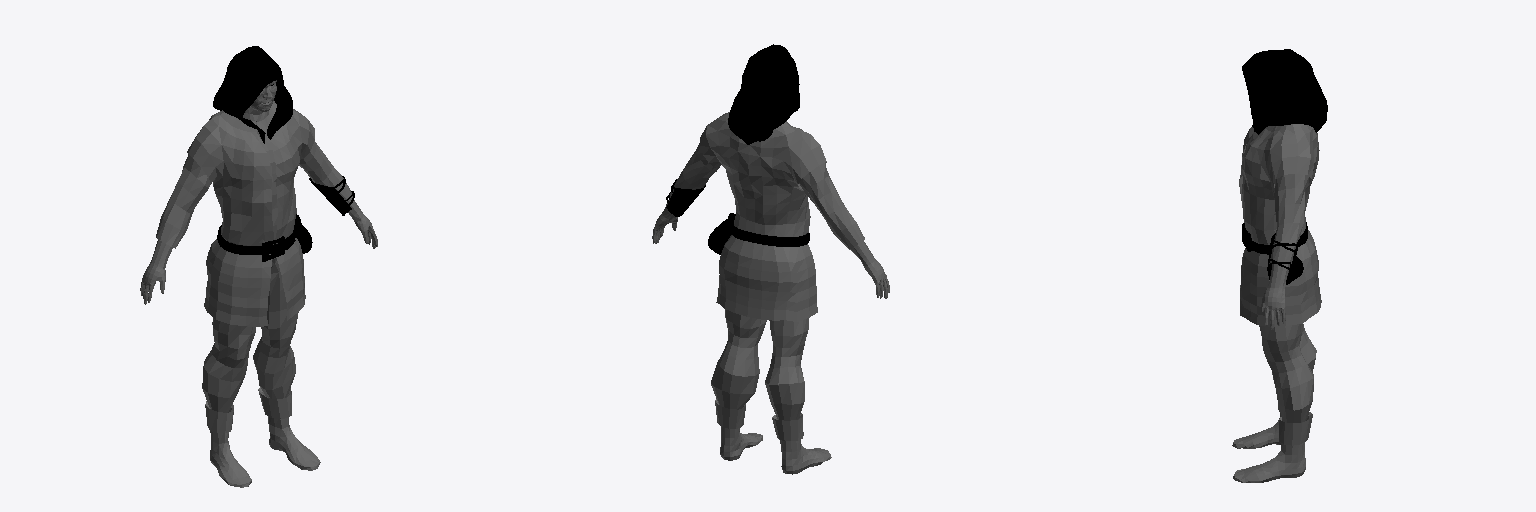
Rendered from HunterModel.obj.
The picture shows the model from 3 angles: view 1: azimuth 30°, elevation 25°; view 2: azimuth 150°, elevation 25°; view 3: azimuth 270°, elevation 25°; orthographic projection.
Parts seen in each view (by area): view 1: pTorus3; view 2: pTorus3; view 3: pTorus3.
Part boxes in pixels (bbox=[...]): pTorus3: bbox=[140, 46, 377, 487]; pTorus3: bbox=[652, 44, 889, 474]; pTorus3: bbox=[1232, 49, 1327, 482].
Size of the model in its own units: 119 by 202 by 42.7.